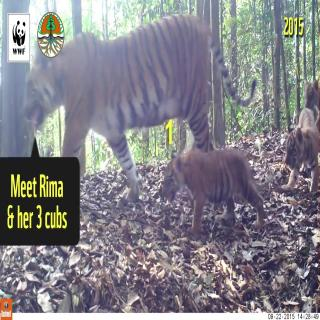Tiger: (15, 7, 230, 202), (155, 129, 267, 240), (282, 100, 320, 206)
